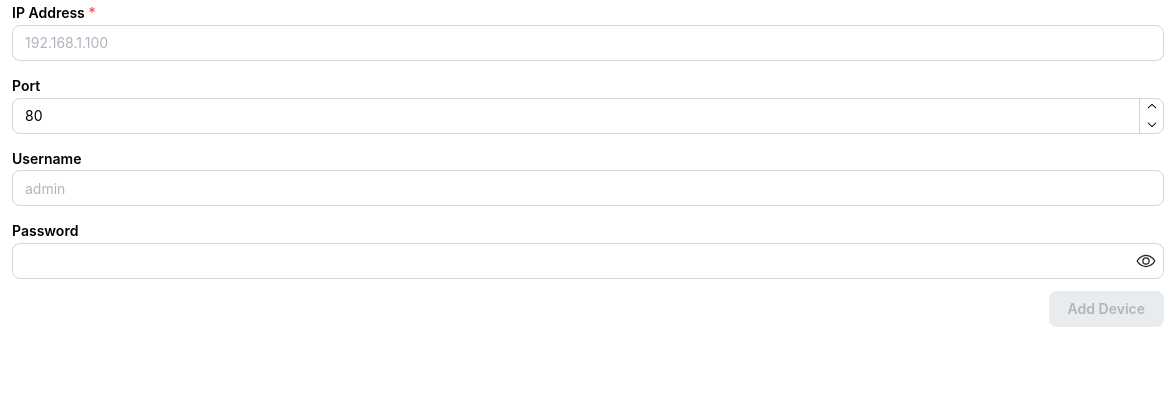
it: ManualAddForm › shows validation error for an invalid IP address
Step 1. Type "not-an-ip" into the field labelled "IP Address *" → (588, 43), box [12,25,1164,61]
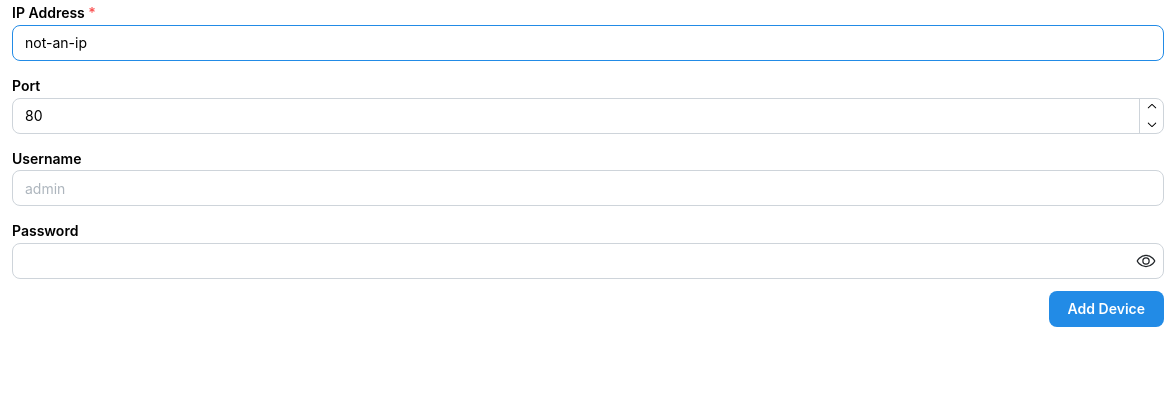
Step 2. Click the button "Add Device" → click(1106, 309), box [1049,291,1164,327]
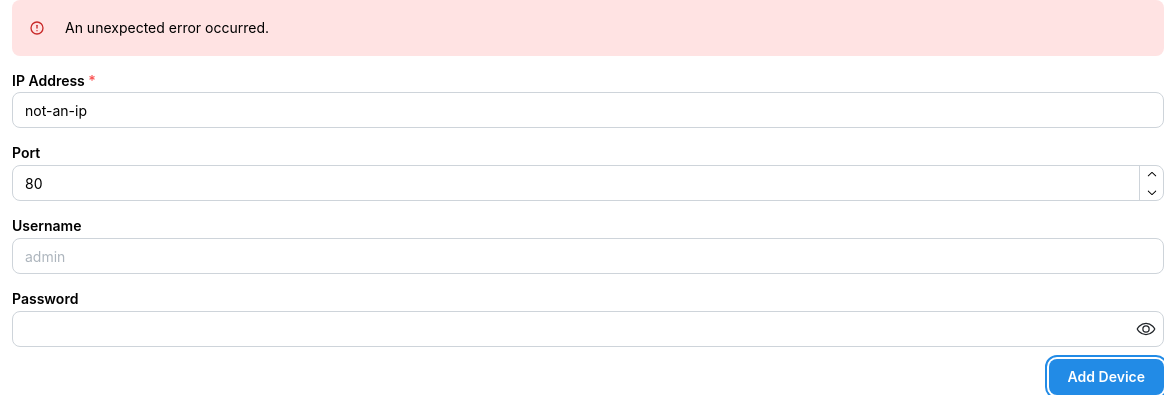
Check: the text "An unexpected error occurred." is shown, box [65,19,269,36]
